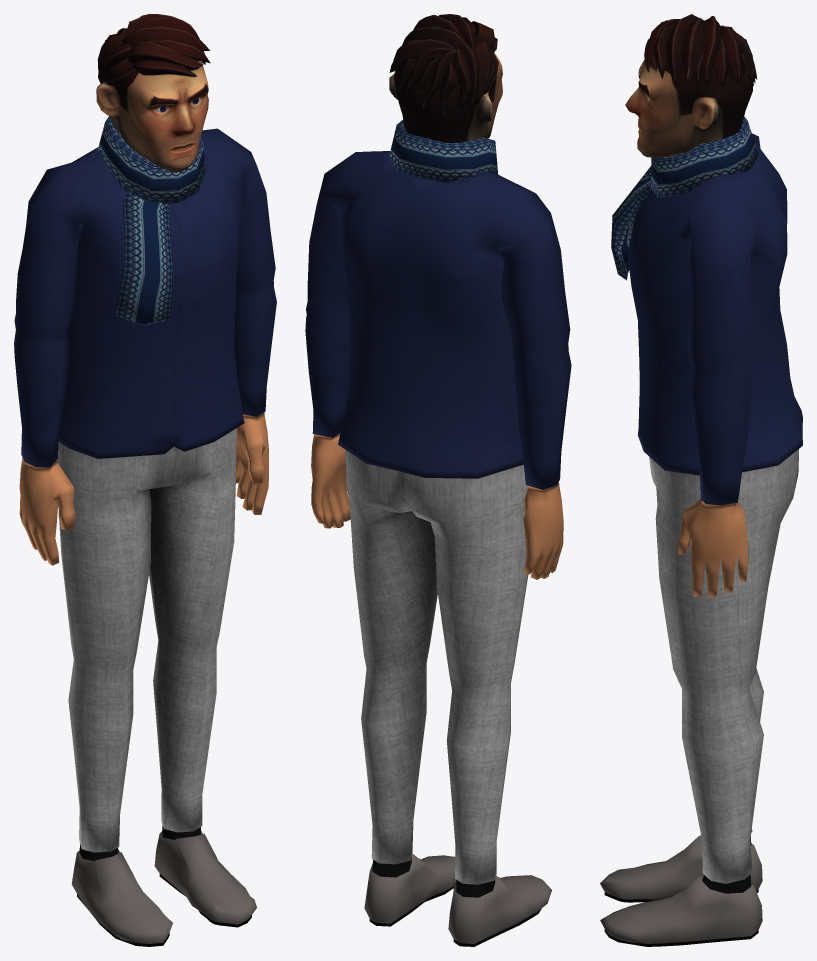
File: NPC5.glb
The picture shows the model from 3 angles, left to right: view 1: azimuth 30°, elevation 25°; view 2: azimuth 150°, elevation 25°; view 3: azimuth 270°, elevation 25°; orthographic projection.
Visible parts, largest first — view 1: M_lBody_BaseMesh.004, M_lBody_BaseMesh.006; view 2: M_lBody_BaseMesh.004, M_lBody_BaseMesh.006; view 3: M_lBody_BaseMesh.004, M_lBody_BaseMesh.006.
Part boxes in pixels (x1,y1,x2,y2): M_lBody_BaseMesh.004: (14, 14, 276, 946); M_lBody_BaseMesh.006: (98, 115, 205, 325); M_lBody_BaseMesh.004: (305, 14, 571, 946); M_lBody_BaseMesh.006: (389, 120, 498, 182); M_lBody_BaseMesh.004: (600, 14, 802, 946); M_lBody_BaseMesh.006: (611, 116, 758, 280).
Size of what is drawn, in the model's own units: 0.544 by 1.81 by 0.372.
3 materials, 3 textured.
